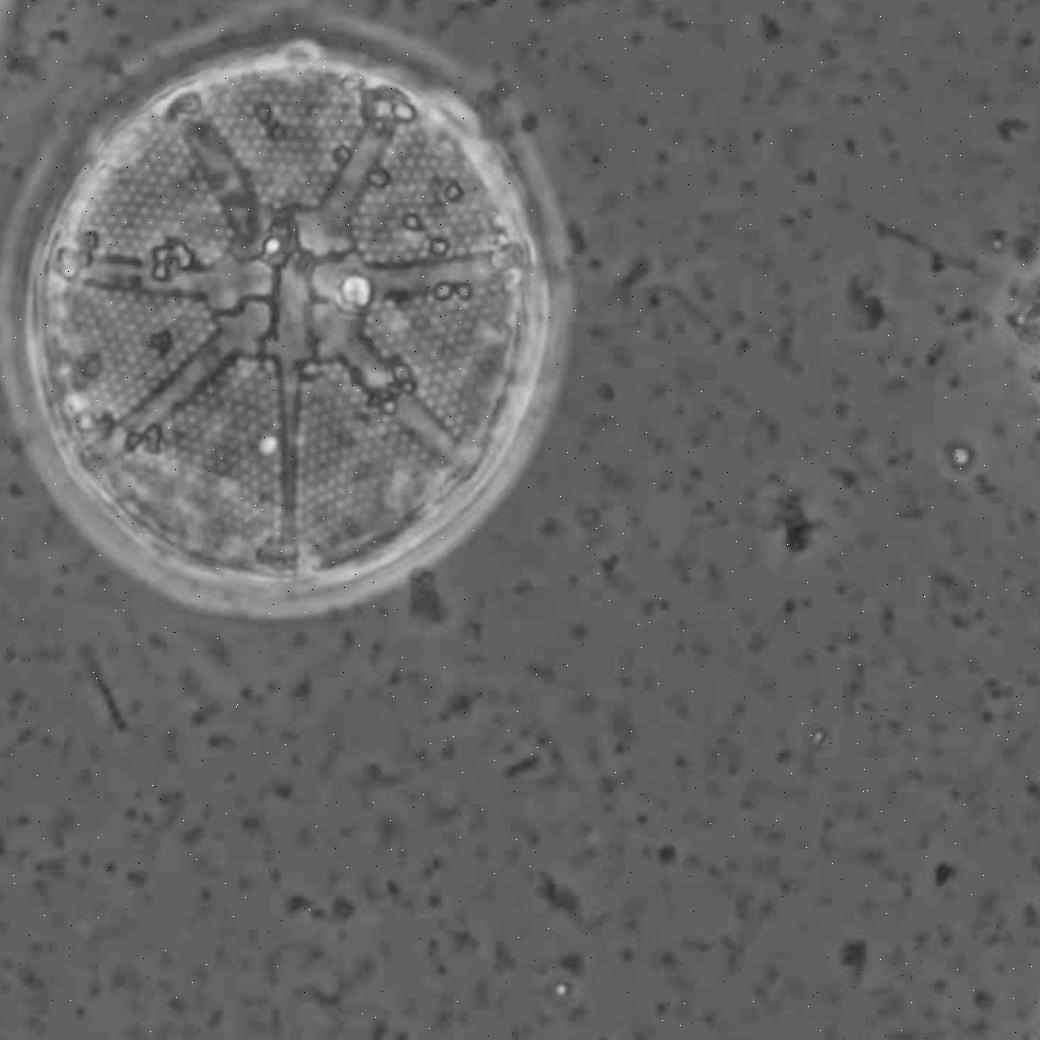asteromphalus_hyalinus: (33, 46, 535, 577)
